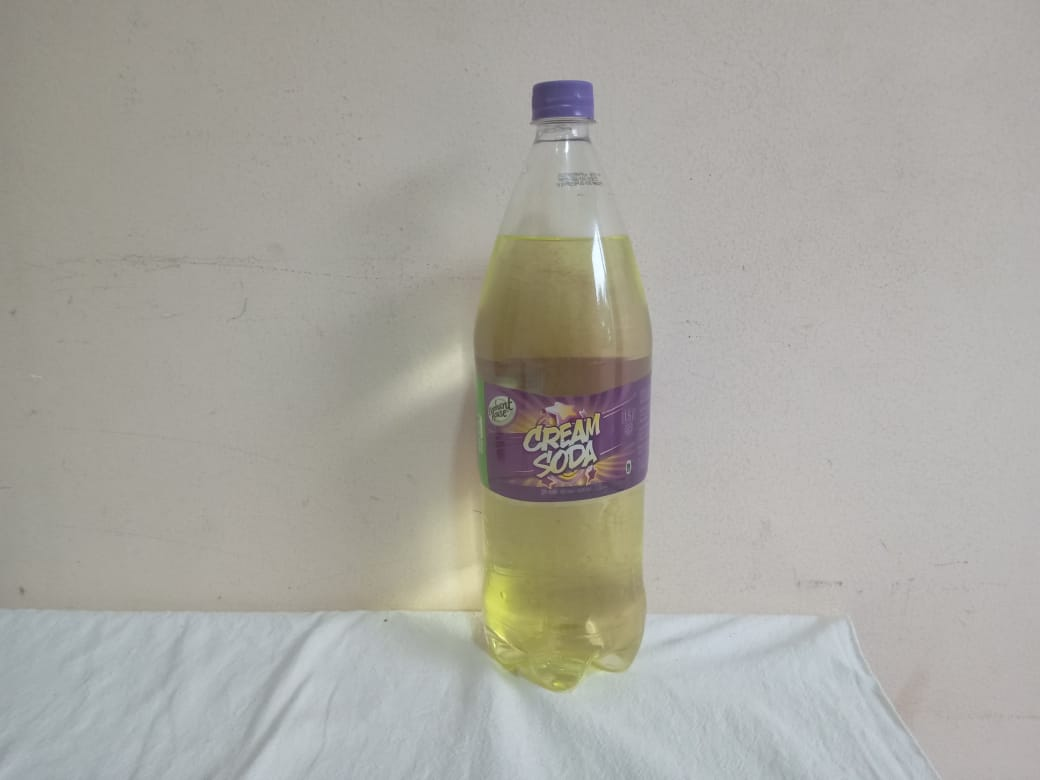L: (449, 69, 660, 704)
